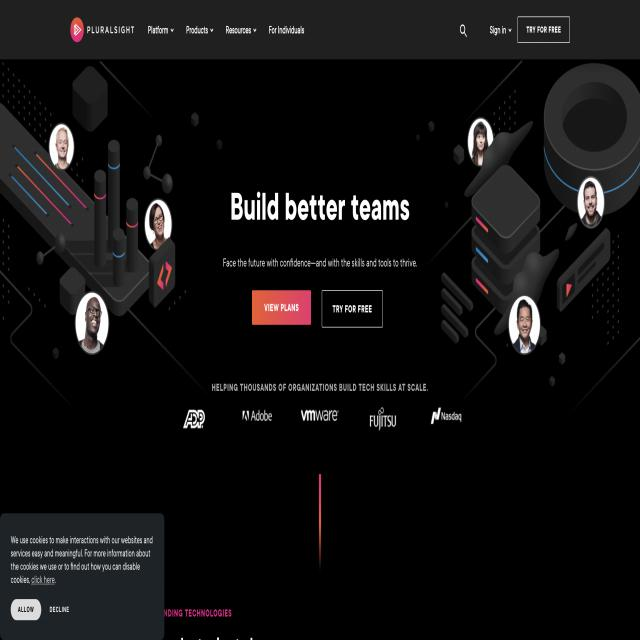Logo: (67, 9, 140, 56)
Navigation: (144, 4, 599, 56)
